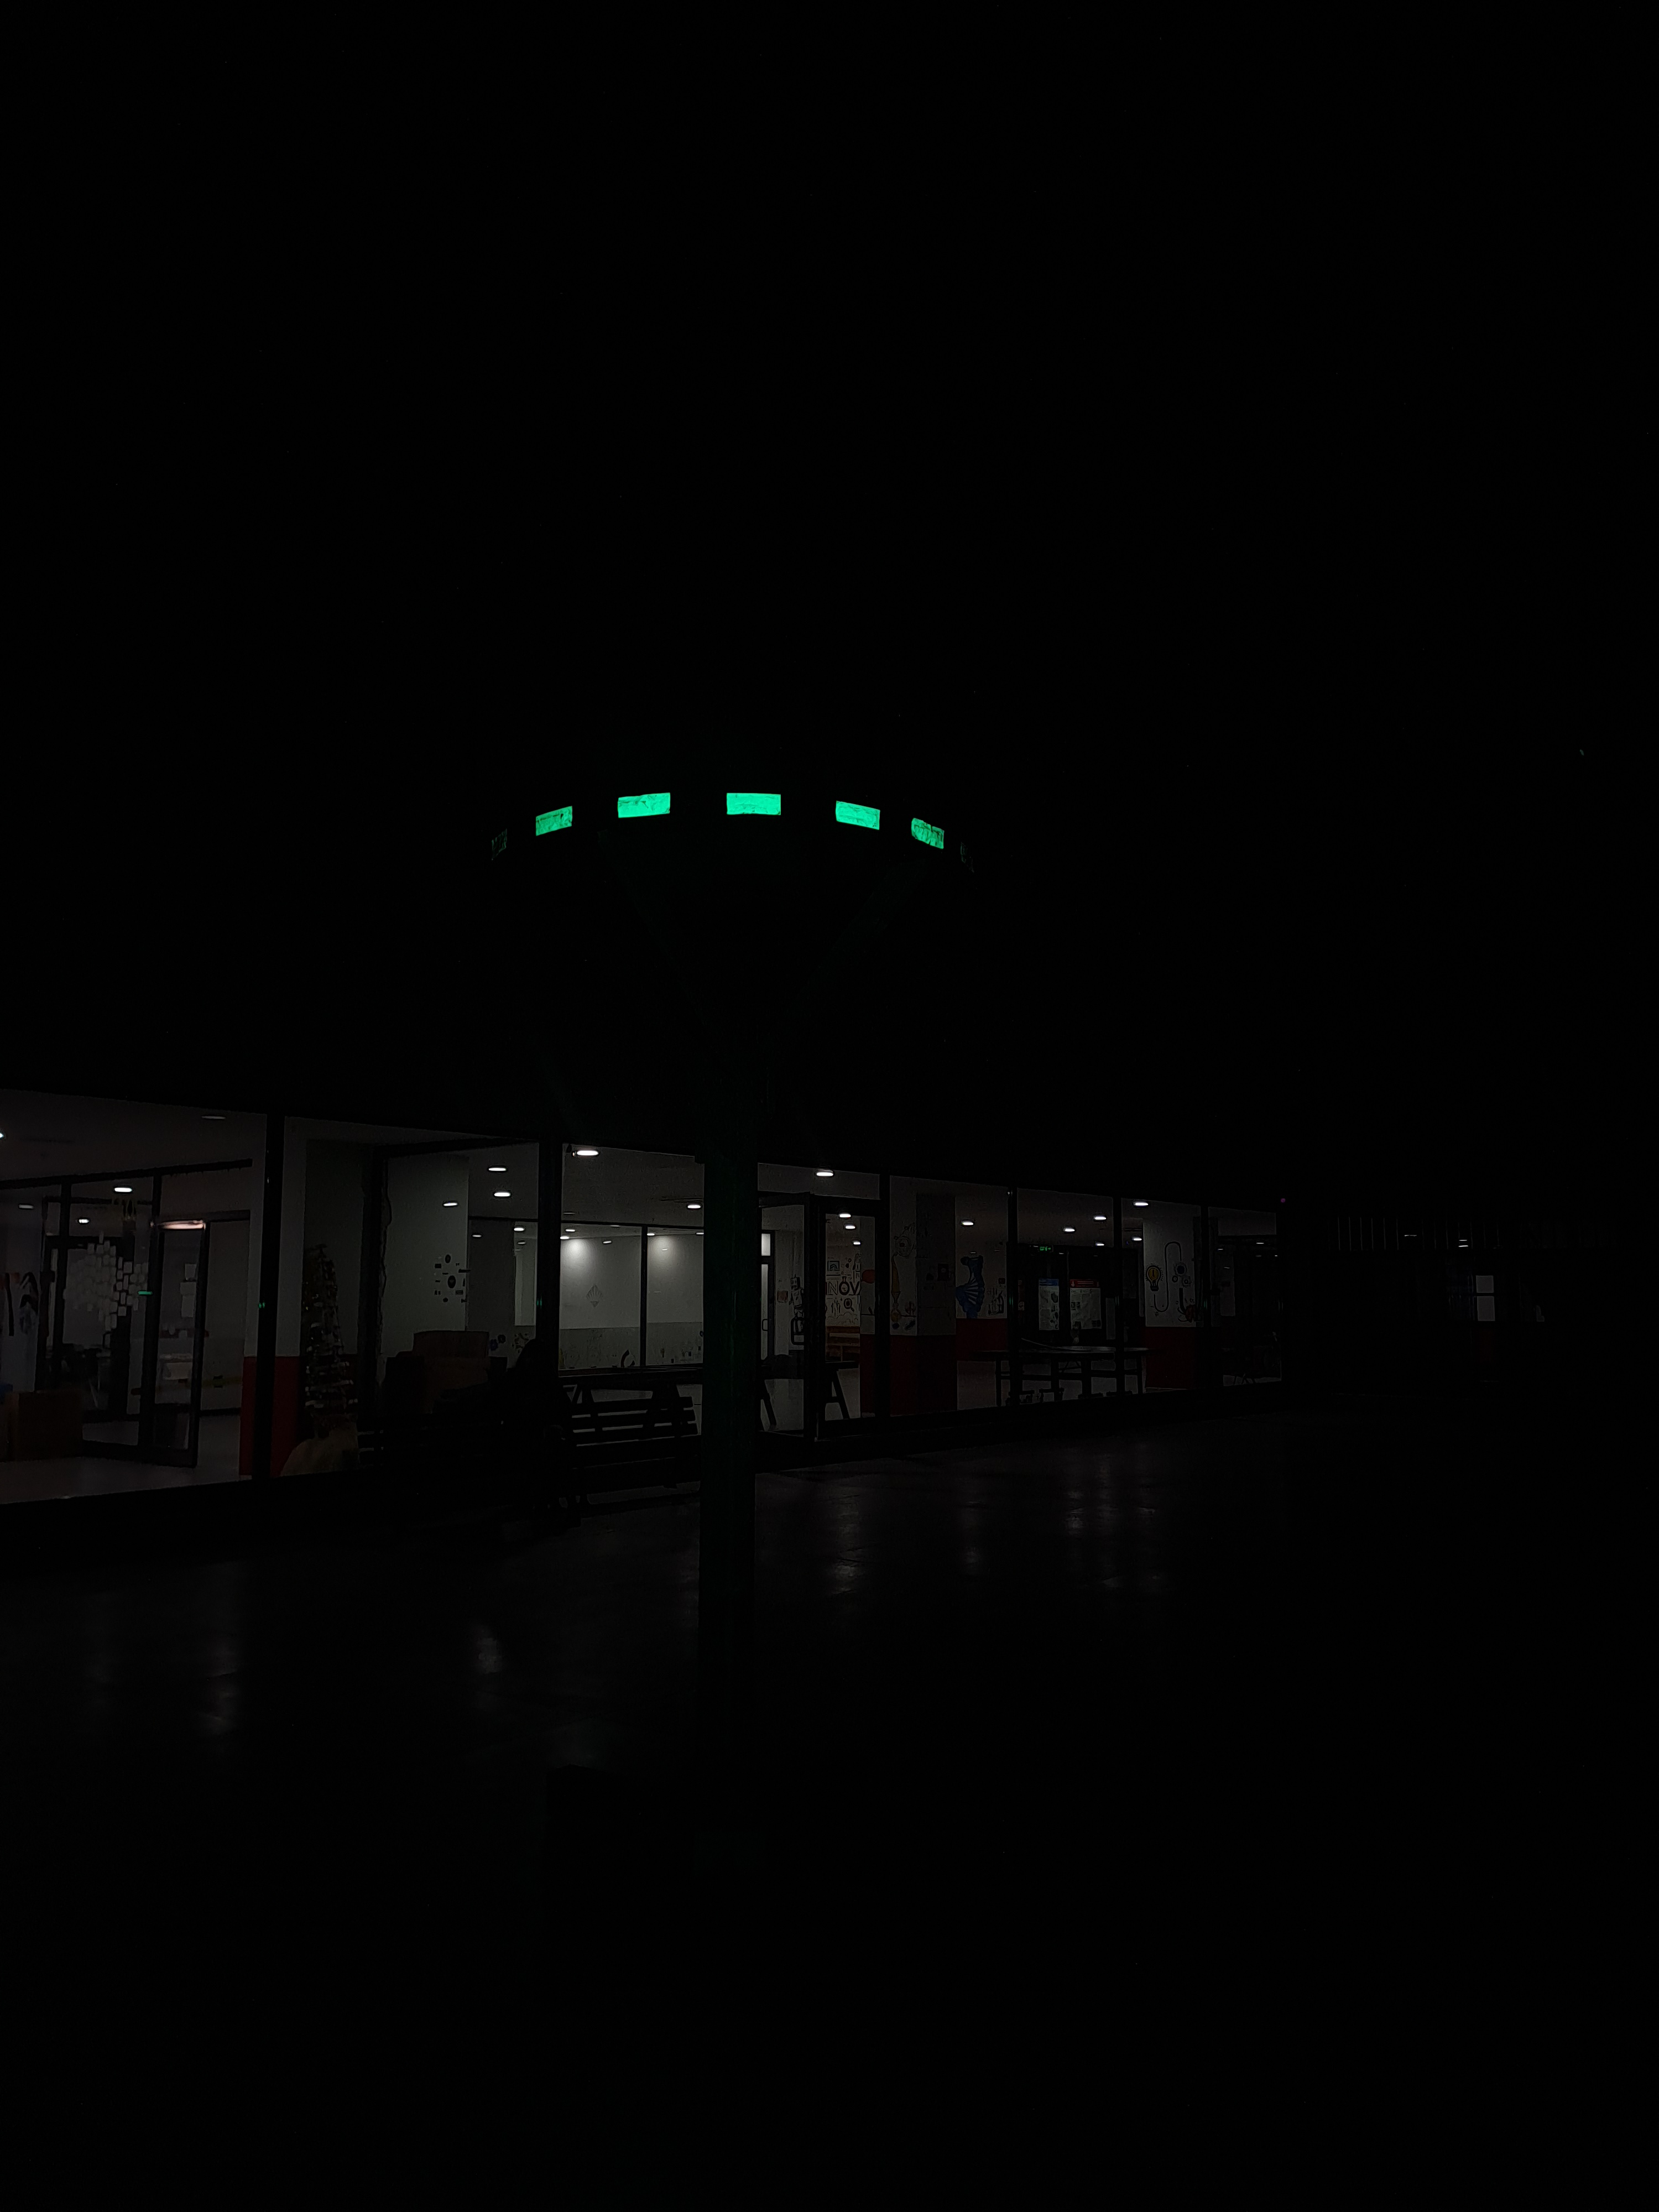hoop: (532, 787, 948, 857)
